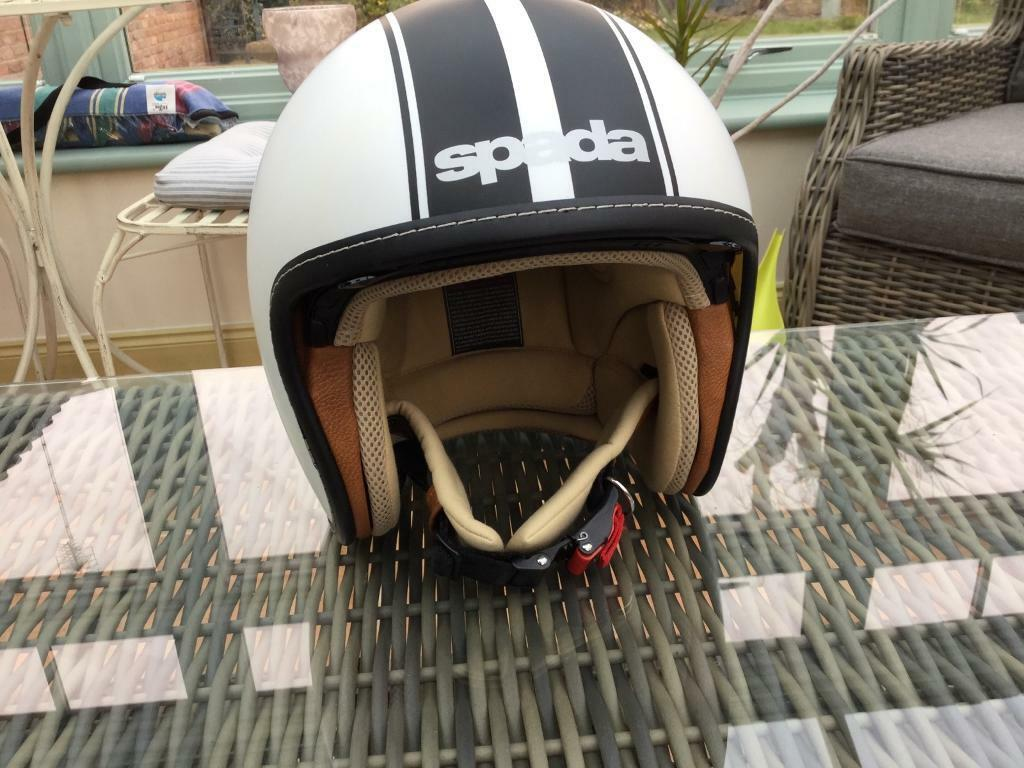with_helmet: (248, 1, 760, 563)
